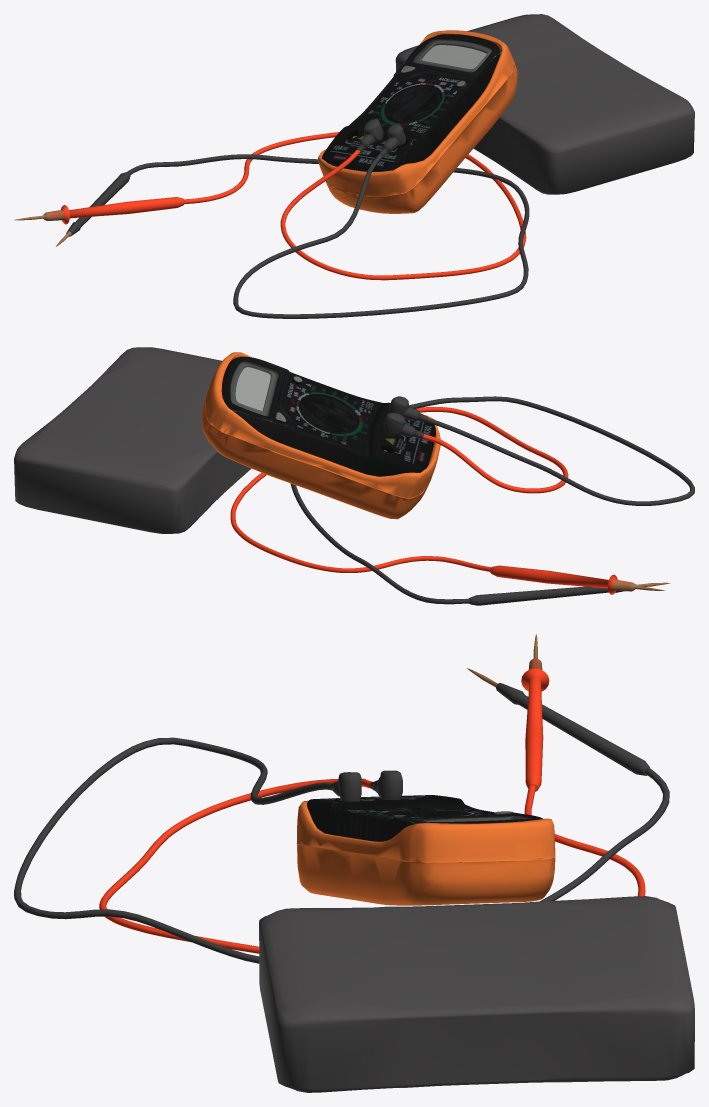
File: service-diagnostics.glb
3 views of the same model, one above another, from view 1: azimuth 30°, elevation 25°; view 2: azimuth 150°, elevation 25°; view 3: azimuth 270°, elevation 25° (orthographic). The views are drawn at different scales.
Parts seen in each view (by area): view 1: Orange Body cover_0, Dial.001_0, Connectors_0, Negative tester.001_0, Black body.003_0; view 2: Orange Body cover_0, Dial.001_0, Connectors_0, Negative tester.001_0, Black body.003_0; view 3: Orange Body cover_0, Connectors_0, Dial.001_0.
Part boxes in pixels (x1,y1,x2,y2): Orange Body cover_0: [14, 14, 694, 280]; Dial.001_0: [322, 34, 501, 171]; Connectors_0: [56, 45, 529, 318]; Negative tester.001_0: [412, 39, 491, 72]; Black body.003_0: [400, 40, 491, 88]; Orange Body cover_0: [14, 347, 664, 594]; Dial.001_0: [221, 356, 435, 476]; Connectors_0: [235, 367, 694, 605]; Negative tester.001_0: [230, 361, 278, 416]; Black body.003_0: [230, 362, 302, 422]; Orange Body cover_0: [99, 634, 694, 1092]; Connectors_0: [14, 668, 669, 963]; Dial.001_0: [307, 795, 542, 841].
Size of the model in its own units: 201 by 38.25 by 134.
5 materials, 5 textured.
